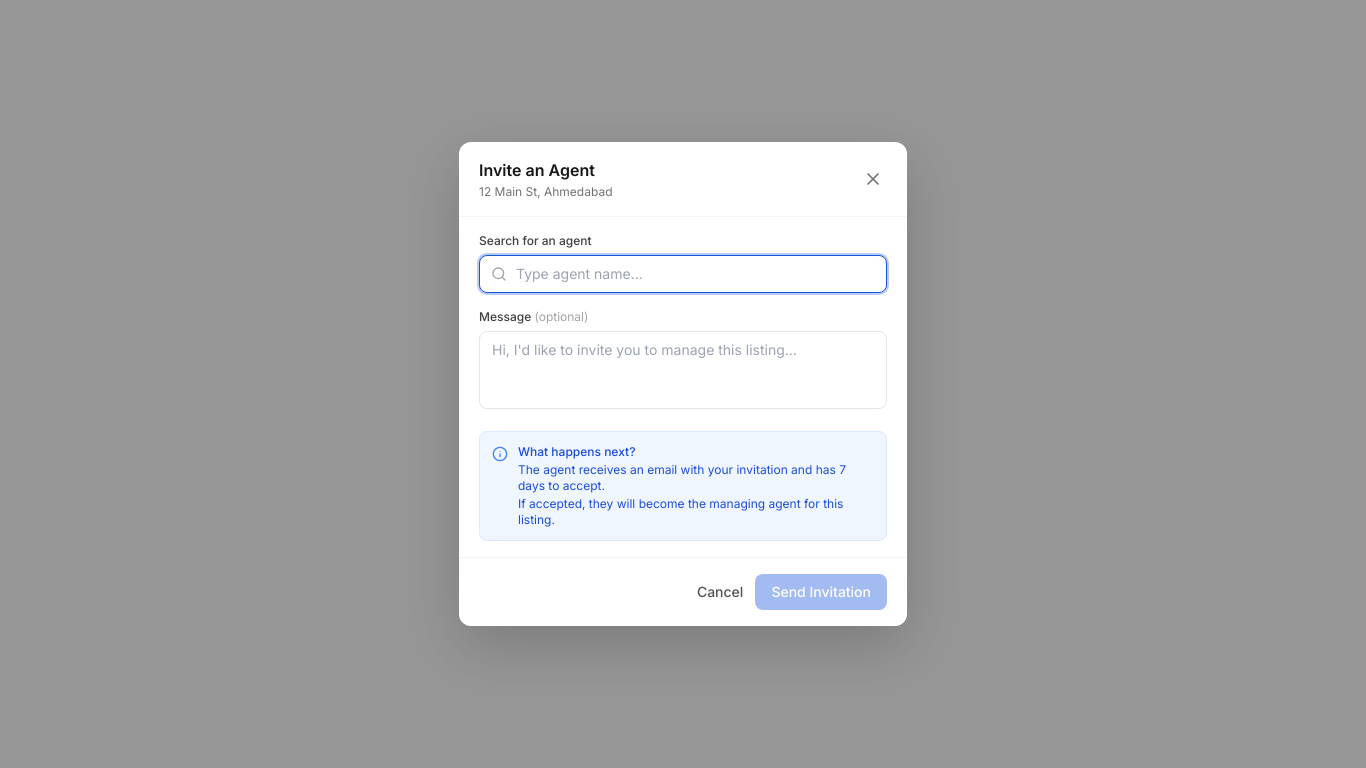
Scenario: InviteAgentModal › removes selected agent when Remove is clicked
Type "Ra" into the field with placeholder "Type agent name…" at (683,274), box left=479, top=255, right=887, bottom=293
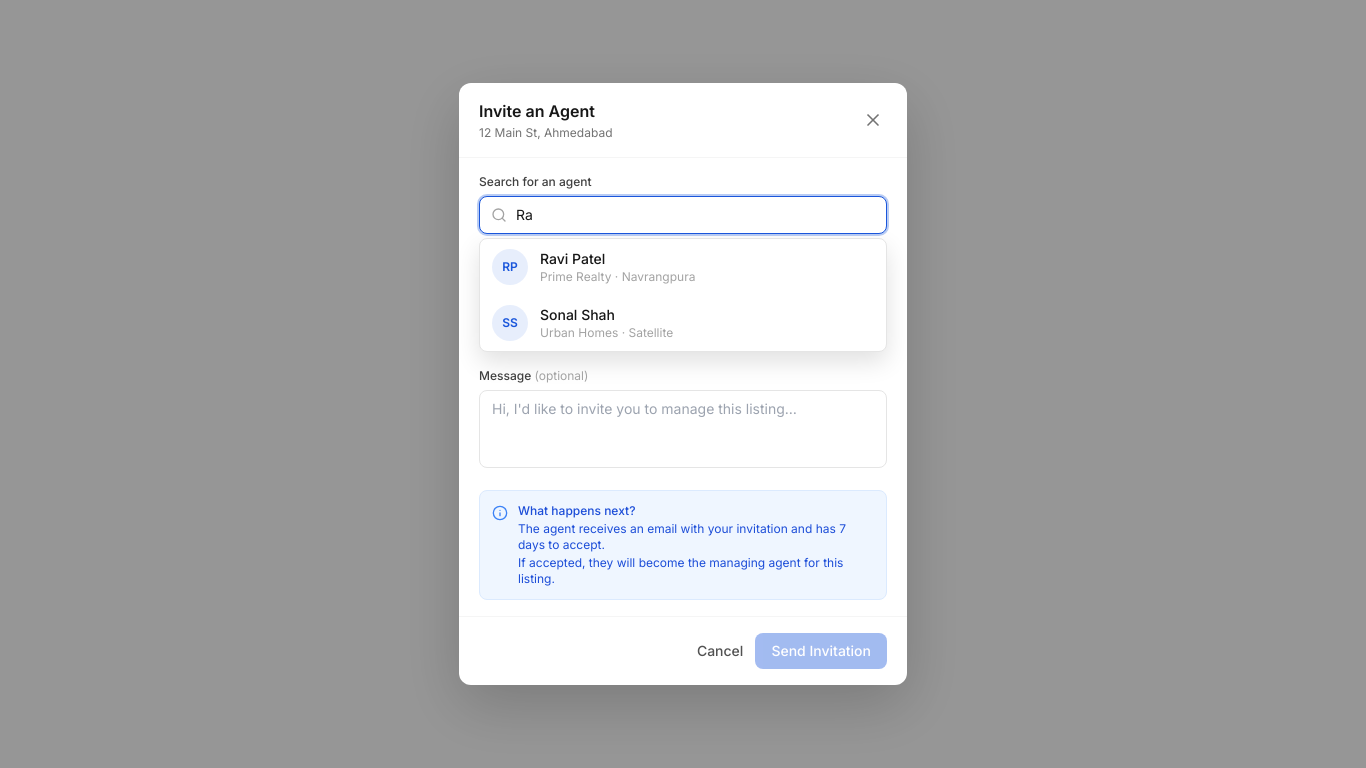
Expected: the text "Ravi Patel" is shown
Click the text "Ravi Patel" at (573,258), box left=540, top=250, right=605, bottom=267
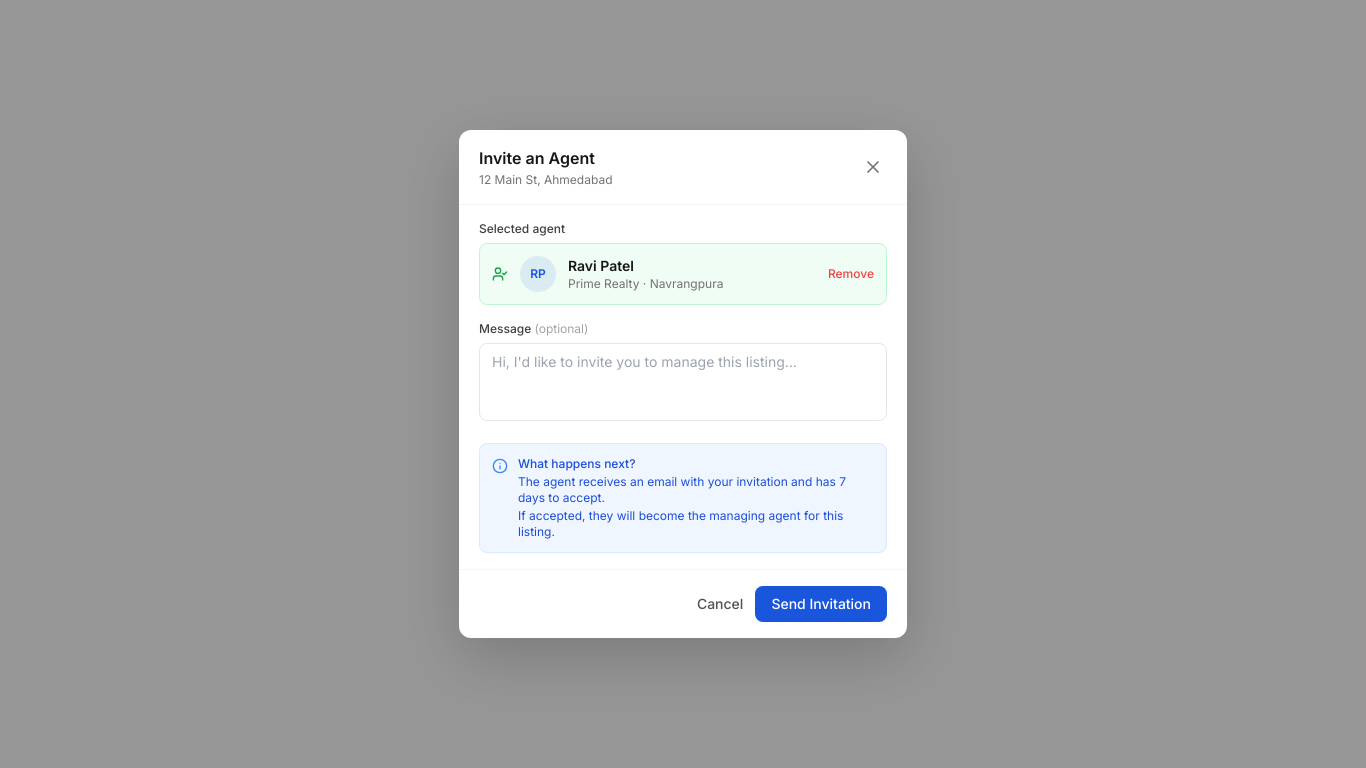
Click the button "Remove" at (851,274), box left=828, top=266, right=874, bottom=282
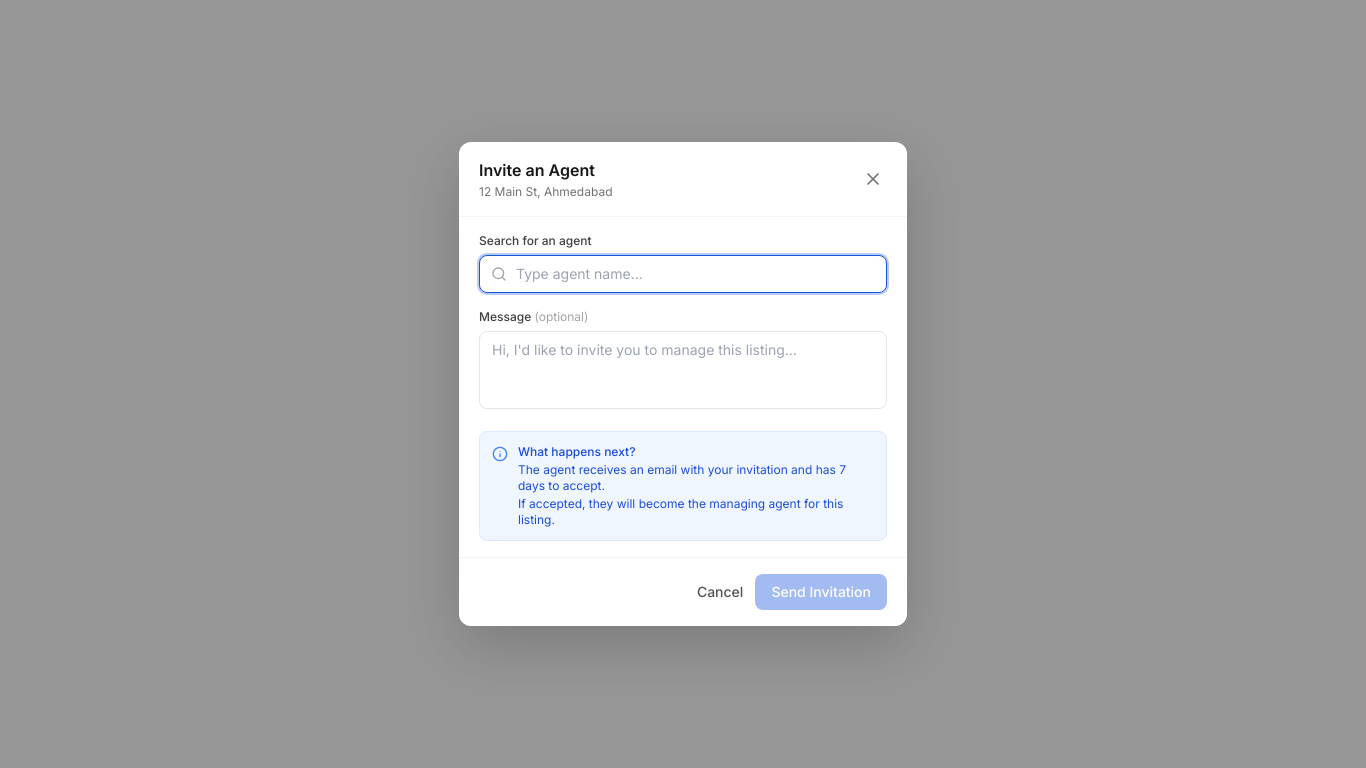
Expected: the field with placeholder "Type agent name…" is shown, left=479, top=255, right=887, bottom=293
Expected: the text "Selected agent" is gone
